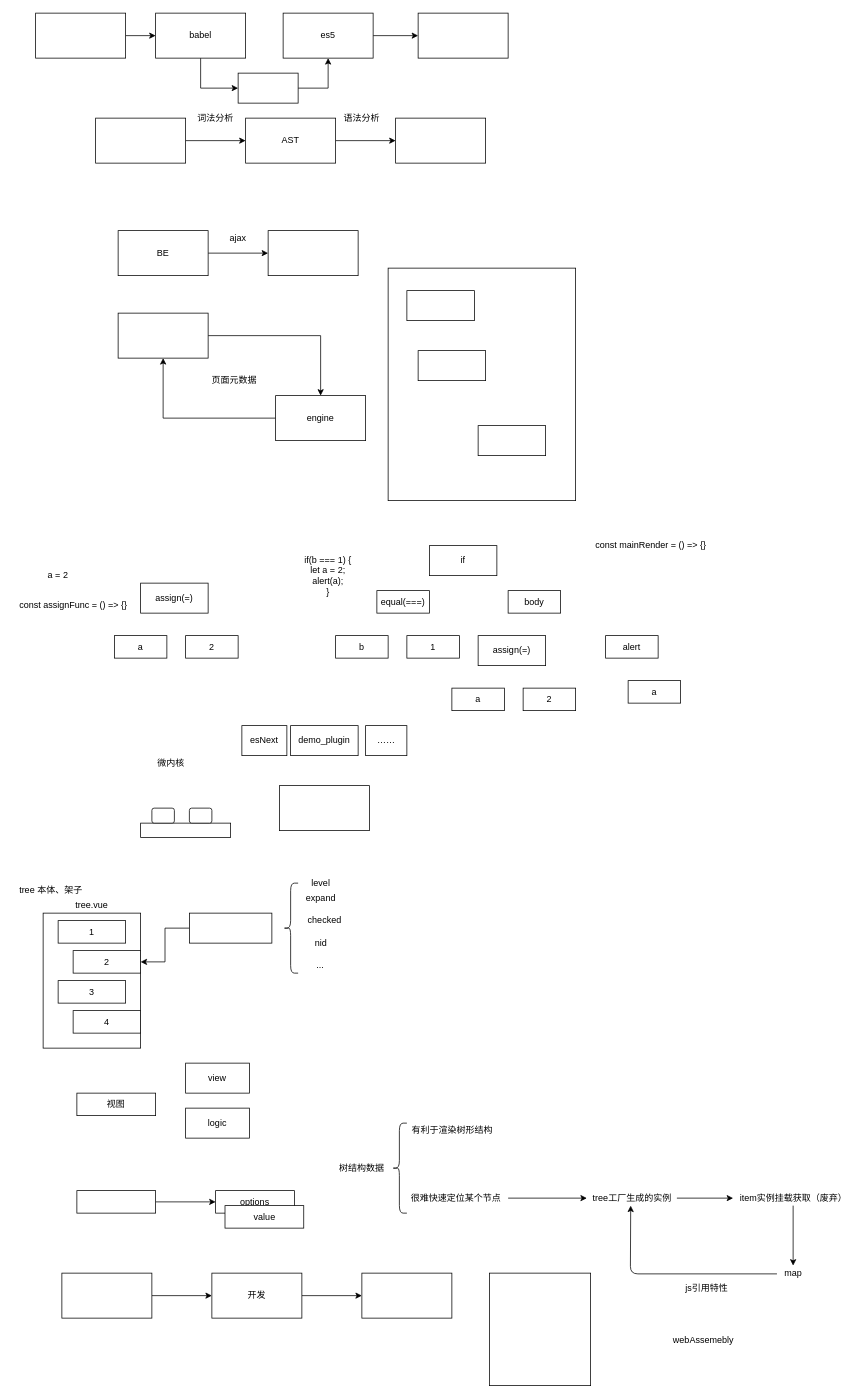
This 866x1399 diagram has some shape labels left out. Each missing label, with the centre of its shape:
browser: point (462, 35)
code: point (140, 140)
core: point (324, 808)
es6: point (80, 35)
FaaS COS: point (162, 335)
fe: point (312, 253)
item.vue: point (230, 927)
plugin: point (267, 87)
run: point (440, 140)
优化: point (406, 1295)
数据: point (116, 1201)
设计: point (106, 1295)
